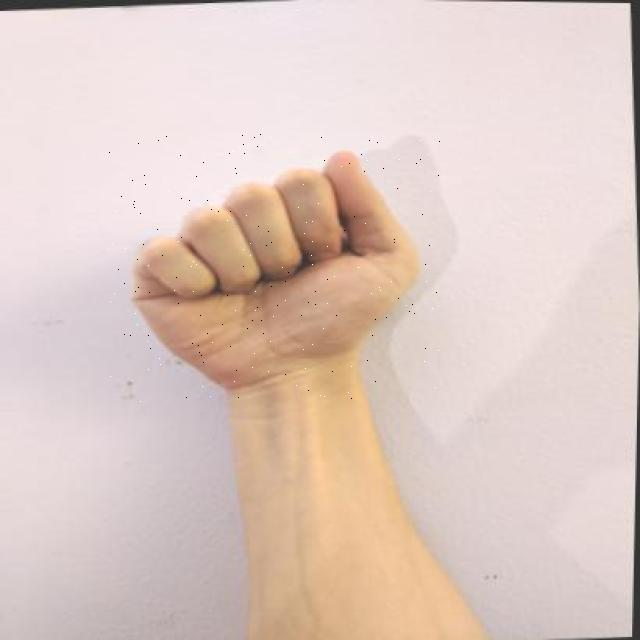A: (108, 134, 441, 404)
